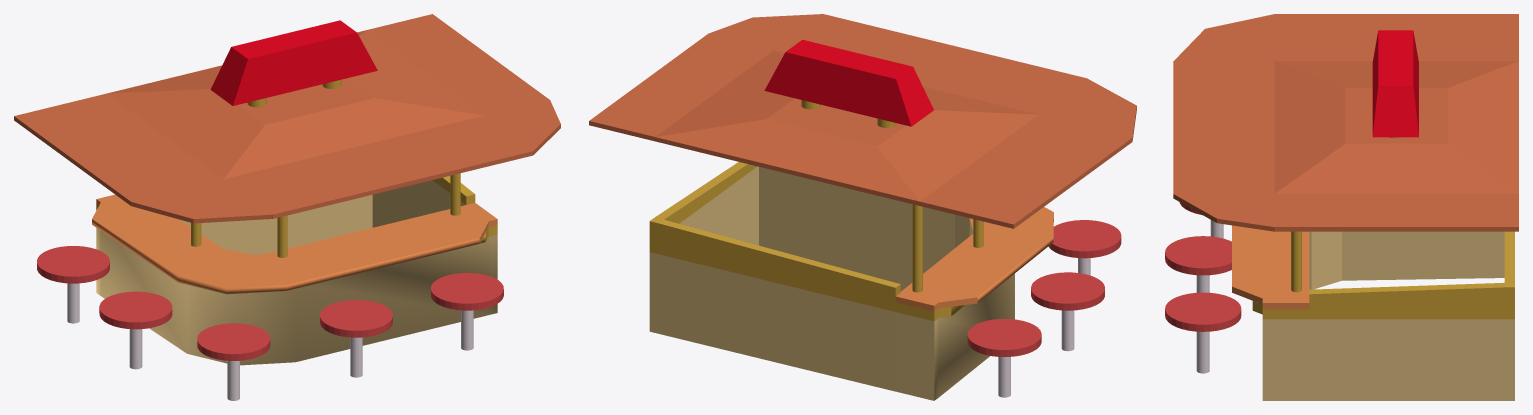
Rendered from RamenStand.fbx.
The picture shows the model from 3 angles, left to right: view 1: azimuth 30°, elevation 25°; view 2: azimuth 150°, elevation 25°; view 3: azimuth 270°, elevation 25°; orthographic projection. The views are drawn at different scales.
Visible parts, largest first — view 1: Cube.002; view 2: Cube.002; view 3: Cube.002.
Boxes of the visible parts, x1,y1,x2,y2 form: Cube.002: (14,14,560,400); Cube.002: (589,14,1136,400); Cube.002: (1165,14,1518,400).
Bounding box in the file's own units: 2163 × 1286 × 1517.
